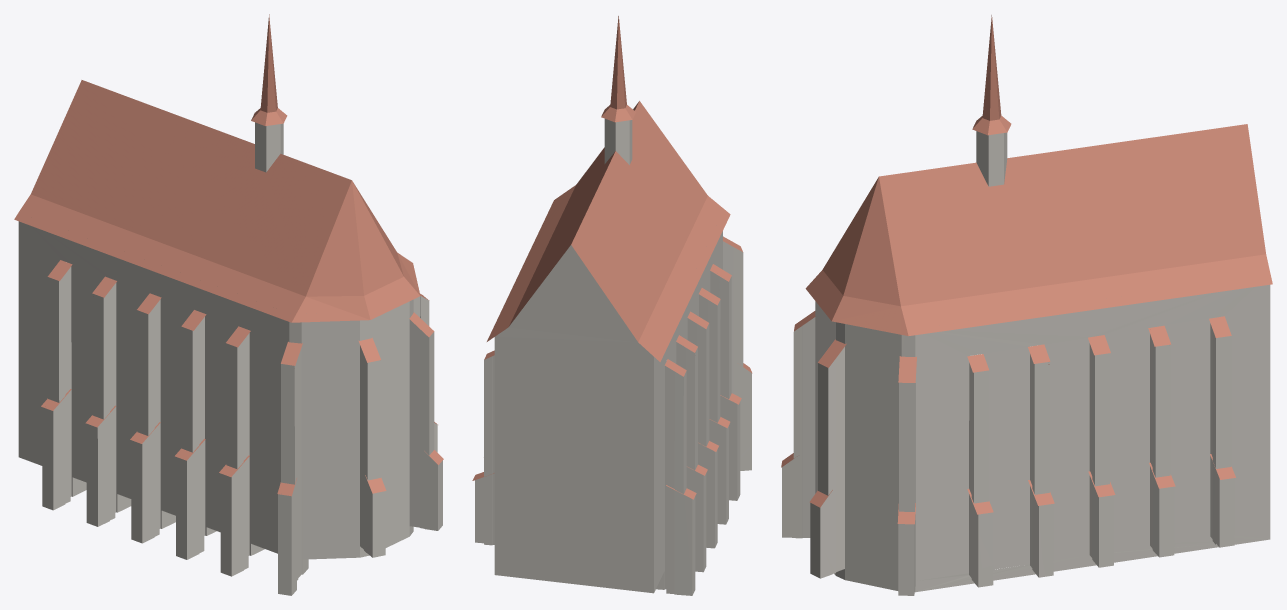
3 renders of one model, left to right at view 1: azimuth 30°, elevation 25°; view 2: azimuth 150°, elevation 25°; view 3: azimuth 270°, elevation 25°, orthographic. The views are drawn at different scales.
Visible parts, largest first — view 1: swisstopo:swissbuildings3d:3a36d013-c220-4633-9d28-57901a11f; view 2: swisstopo:swissbuildings3d:3a36d013-c220-4633-9d28-57901a11f; view 3: swisstopo:swissbuildings3d:3a36d013-c220-4633-9d28-57901a11f.
Part boxes in pixels (x1=…): swisstopo:swissbuildings3d:3a36d013-c220-4633-9d28-57901a11f: x1=14, y1=14, x2=443, y2=595; swisstopo:swissbuildings3d:3a36d013-c220-4633-9d28-57901a11f: x1=472, y1=16, x2=752, y2=595; swisstopo:swissbuildings3d:3a36d013-c220-4633-9d28-57901a11f: x1=781, y1=15, x2=1272, y2=595.
Bounding box in the file's own units: 22.63 × 39.43 × 31.86.
